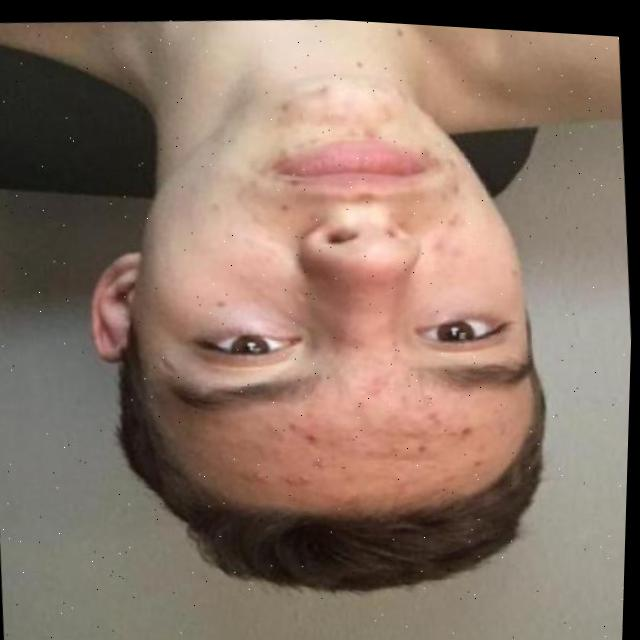Acne: (230, 394, 510, 525), (293, 64, 391, 138), (415, 172, 474, 292)
